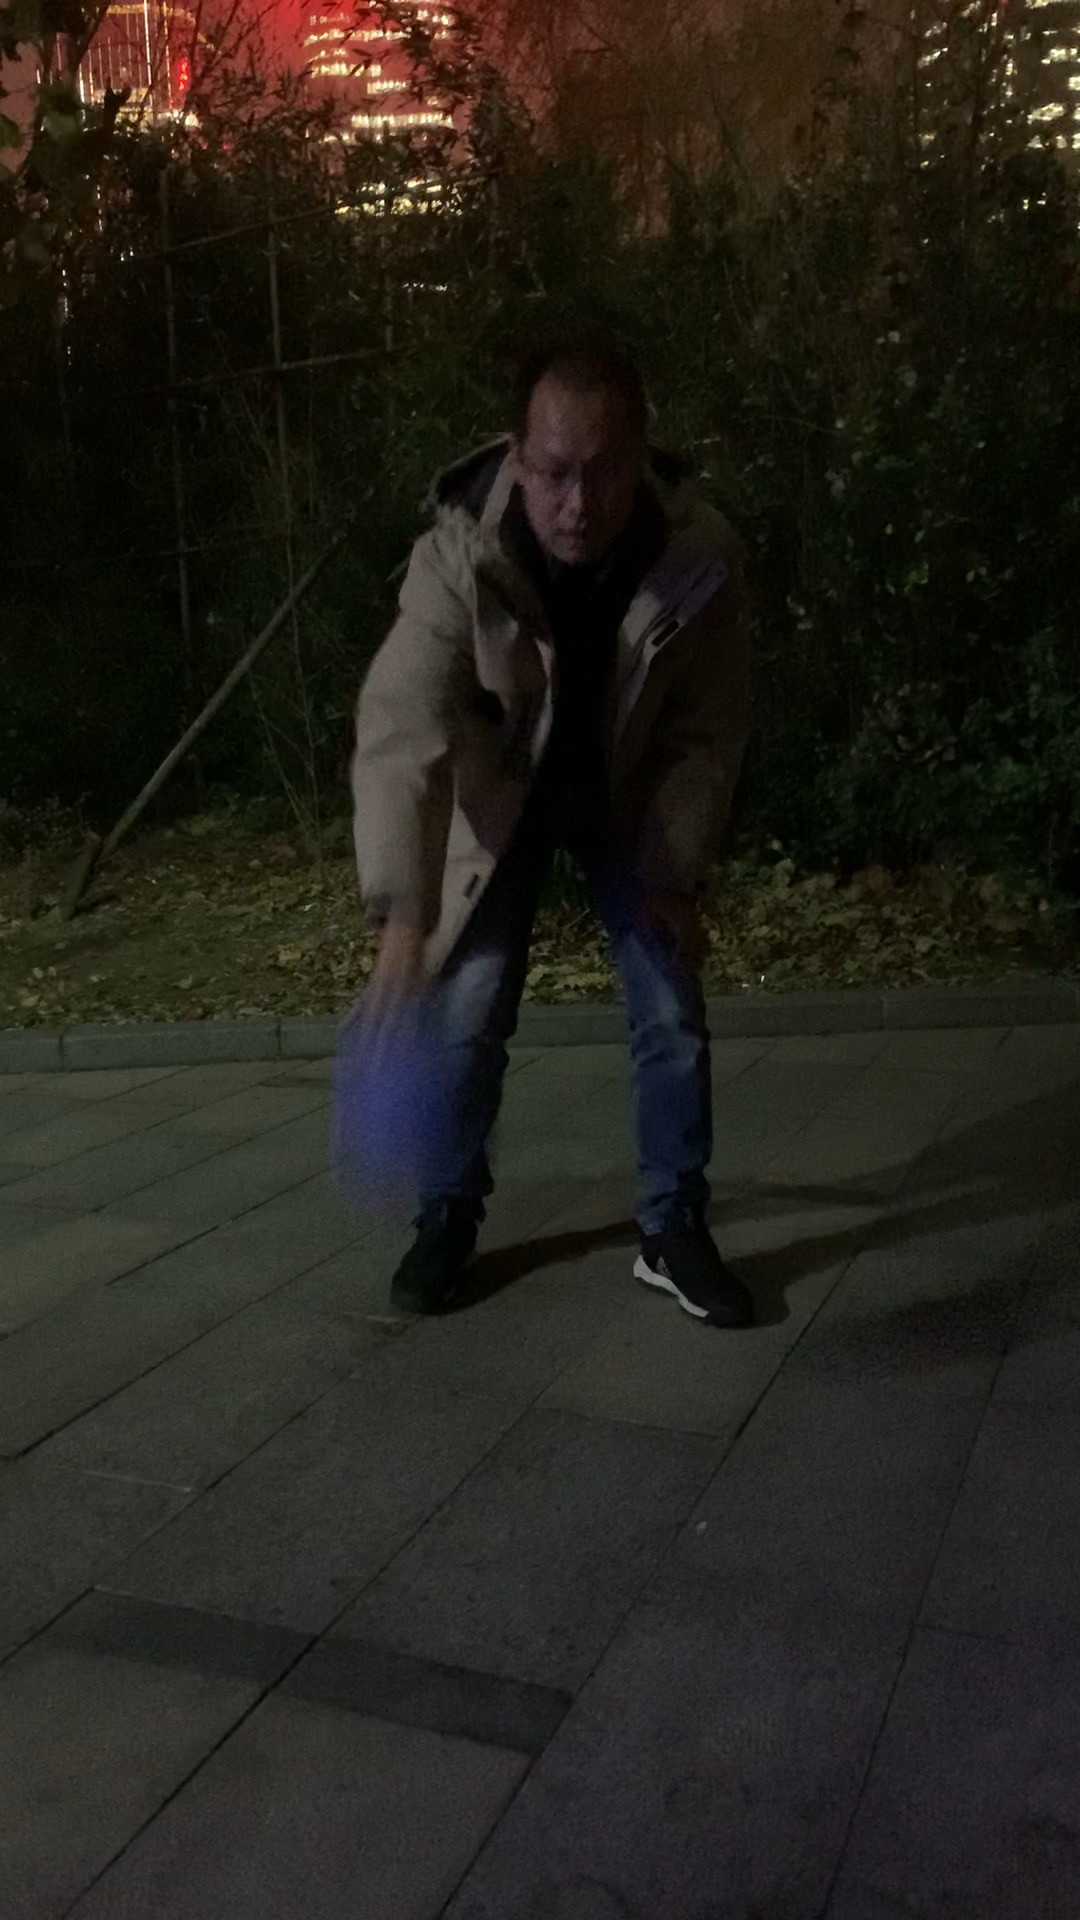ball: (336, 1007, 502, 1197)
